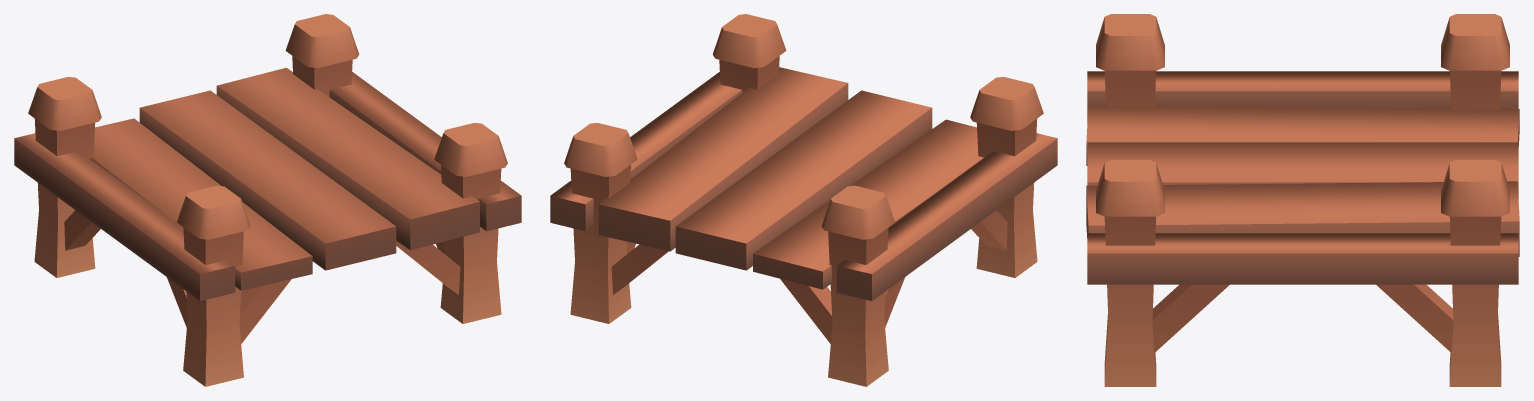
Rendered from k-pirate-structure-platform-dock.glb.
3 renders of one model, left to right at view 1: azimuth 30°, elevation 25°; view 2: azimuth 150°, elevation 25°; view 3: azimuth 270°, elevation 25°, orthographic. The views are drawn at different scales.
Parts seen in each view (by area): view 1: structure-platform-dock; view 2: structure-platform-dock; view 3: structure-platform-dock.
Boxes of the visible parts, bbox=[...] form: structure-platform-dock: bbox=[14, 14, 521, 386]; structure-platform-dock: bbox=[550, 14, 1057, 386]; structure-platform-dock: bbox=[1086, 14, 1519, 386].
Size of the model in its own units: 2.5 by 1.31 by 2.51.
1 material, 1 textured.
